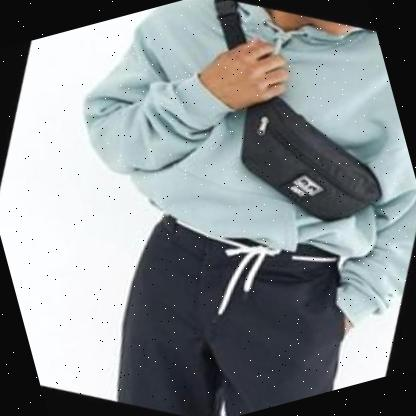bag: (219, 56, 398, 247)
